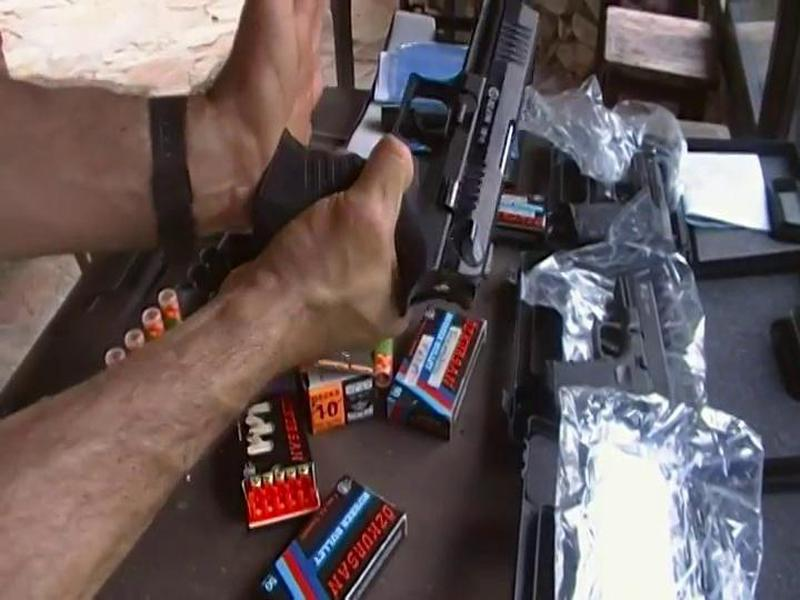Pistola: (243, 1, 552, 315)
